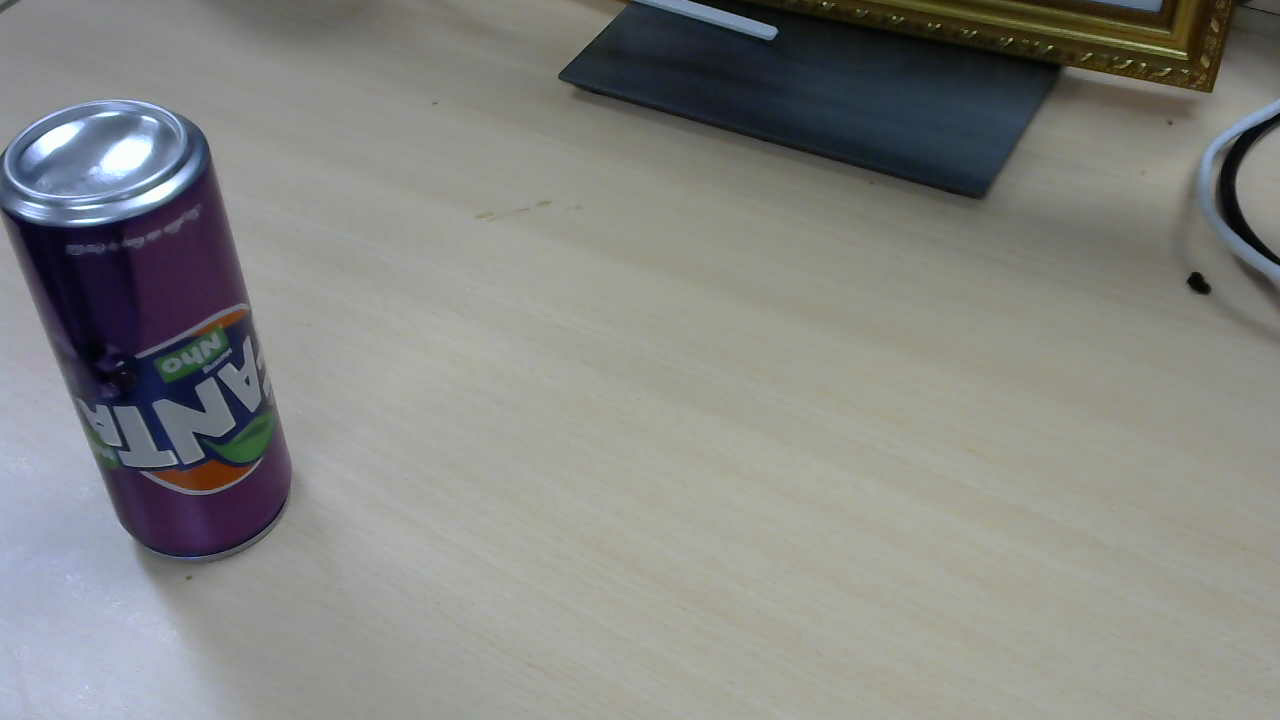Fanta: (8, 105, 299, 568)
